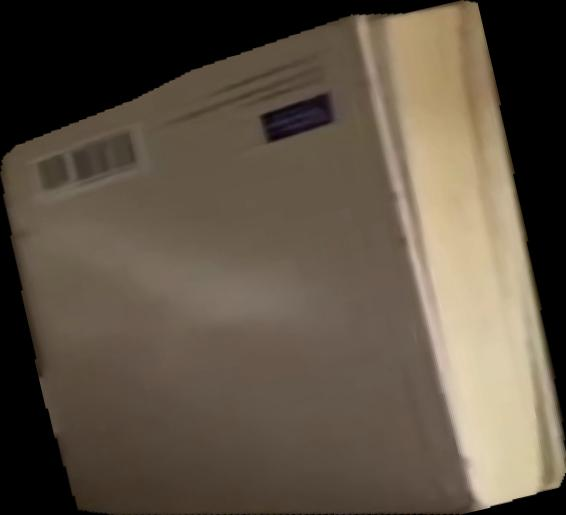backward: (1, 1, 566, 515)
